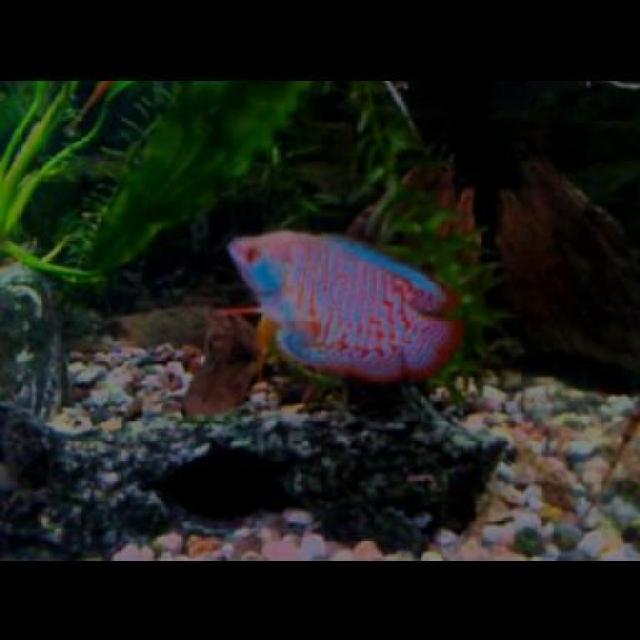Gourami: (224, 226, 459, 383)
